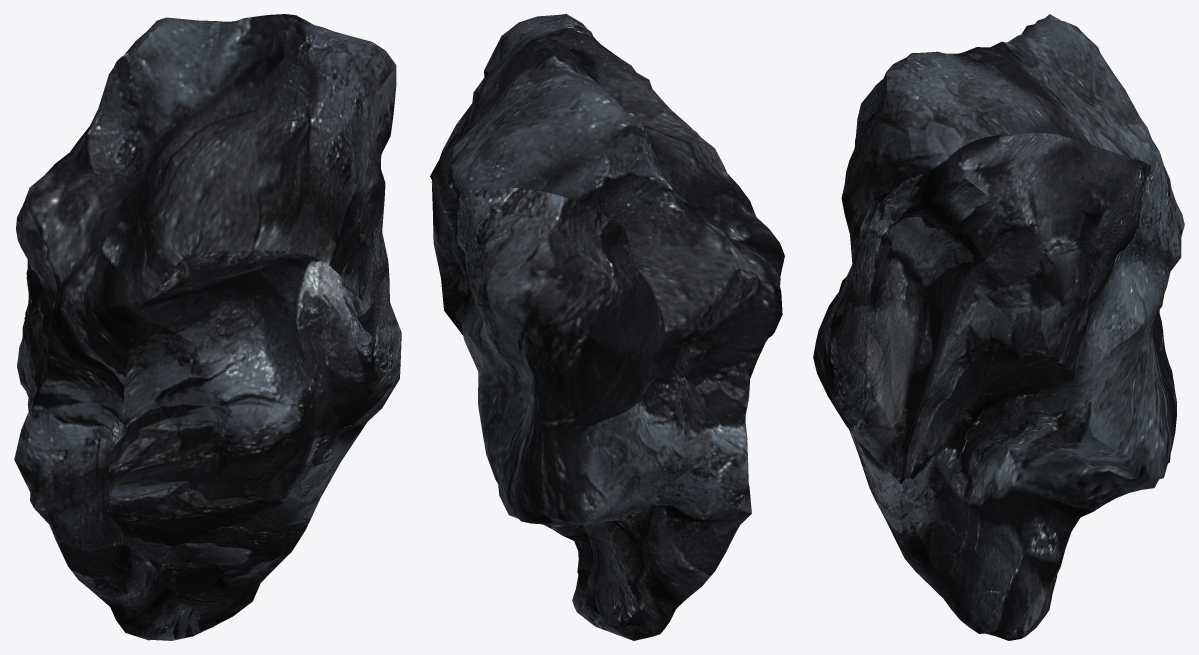
The model's file is coal.gltf.
The picture shows the model from 3 angles, left to right: view 1: azimuth 30°, elevation 25°; view 2: azimuth 150°, elevation 25°; view 3: azimuth 270°, elevation 25°; orthographic projection. The views are drawn at different scales.
Parts seen in each view (by area): view 1: Cube; view 2: Cube; view 3: Cube.
Part boxes in pixels (x1=…): Cube: x1=14, y1=14, x2=401, y2=640; Cube: x1=430, y1=14, x2=784, y2=640; Cube: x1=813, y1=14, x2=1184, y2=640.
Size of the model in its own units: 0.00665 by 0.0114 by 0.00609.
1 material, 1 textured.
